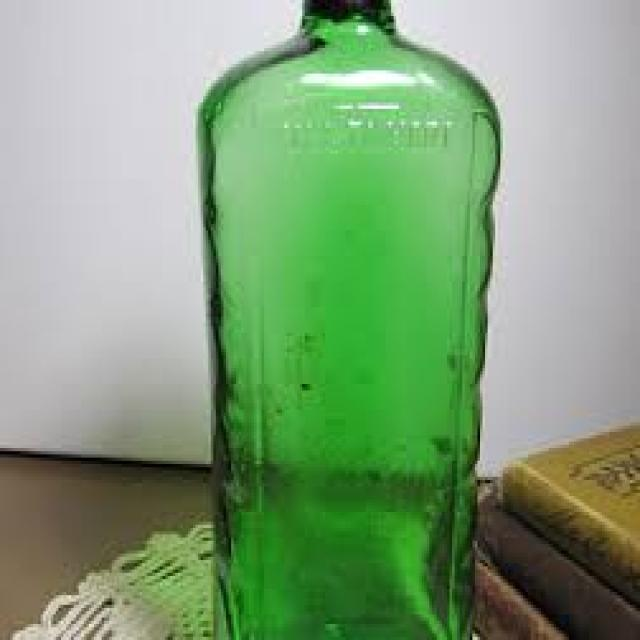glass: (196, 0, 501, 637)
